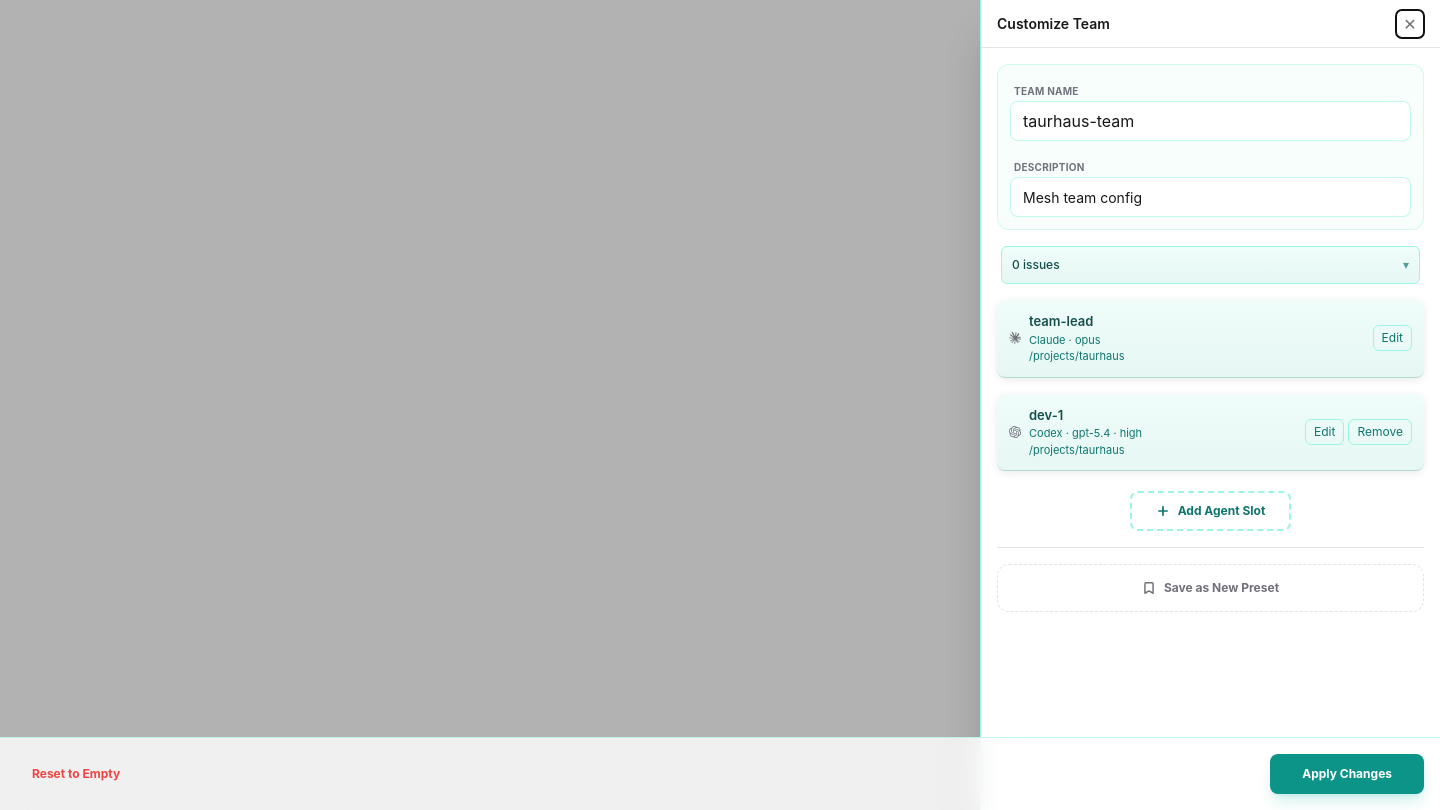
Scenario: TeamCustomizerPanel - Save as Preset › shows "Save as New Preset" button and opens dialog
The image size is (1440, 810).
Click the button with test id "team-customizer-save-preset-trigger".
click(1210, 588)  # box [997,564,1424,612]
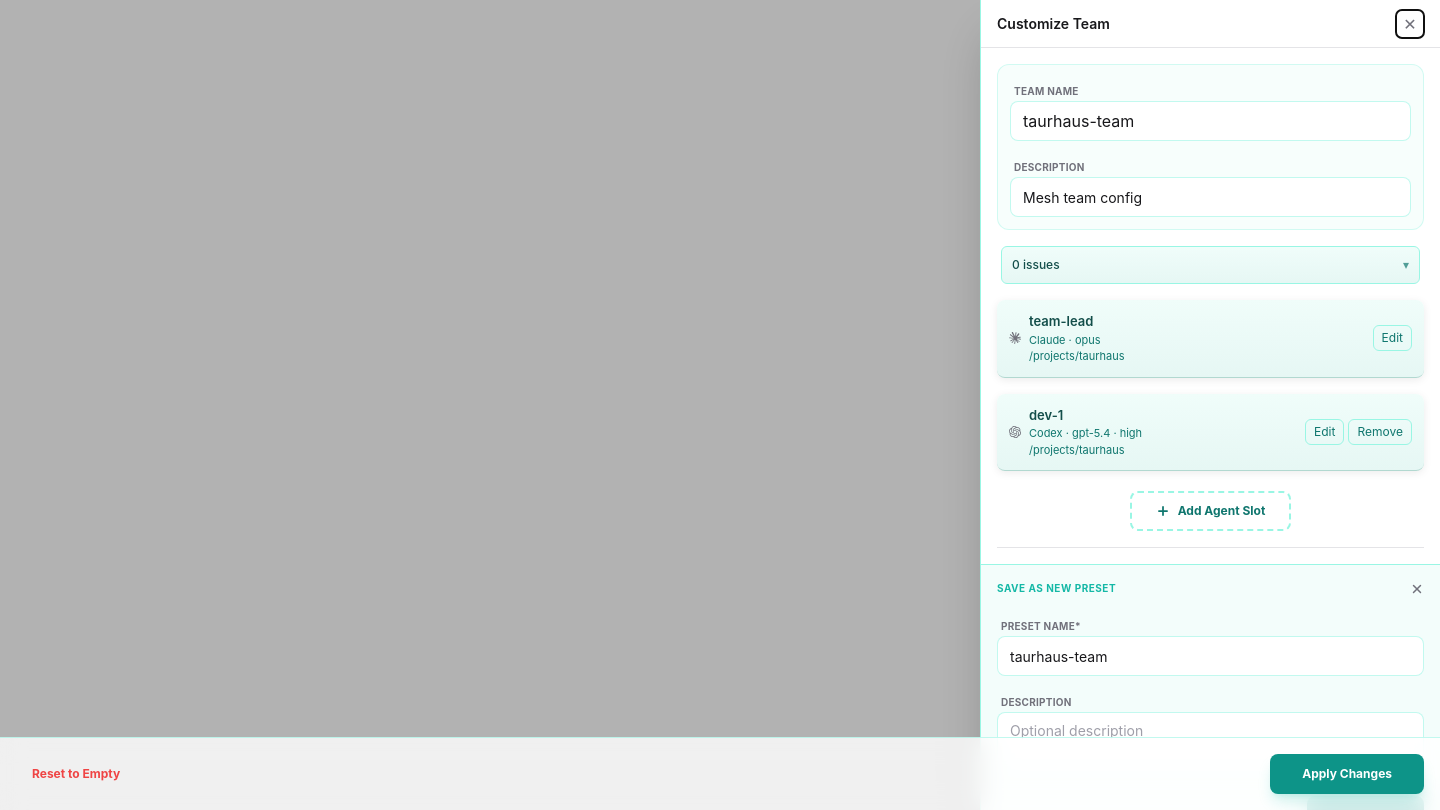
Expected: the element with test id "save-preset-dialog" is shown, [981,564,1439,809]
Expected: the field with test id "save-preset-name-input" is shown, [997,636,1424,676]
Expected: the text box with test id "save-preset-description-input" is shown, [997,712,1424,770]
